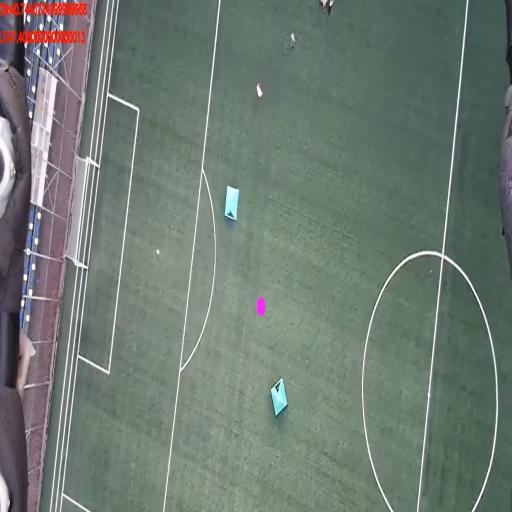tent: (269, 375, 288, 418), (222, 183, 240, 222)
